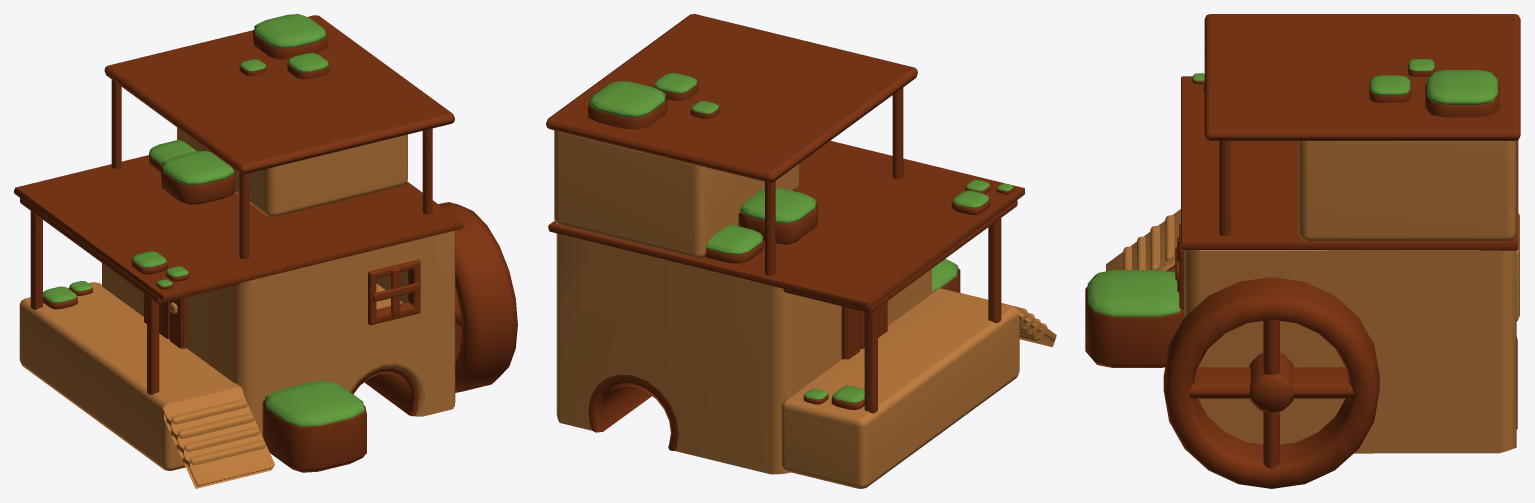
Rendered from WaterMillCombined.fbx.
3 views of the same model, side by side, from view 1: azimuth 30°, elevation 25°; view 2: azimuth 150°, elevation 25°; view 3: azimuth 270°, elevation 25° (orthographic). The views are drawn at different scales.
Parts seen in each view (by area): view 1: polySurface22, polySurface13; view 2: polySurface22; view 3: polySurface22, polySurface13.
Boxes of the visible parts, x1=… form: polySurface22: x1=14, y1=14, x2=463, y2=488; polySurface13: x1=438, y1=202, x2=517, y2=392; polySurface22: x1=546, y1=14, x2=1056, y2=488; polySurface22: x1=1085, y1=14, x2=1520, y2=453; polySurface13: x1=1163, y1=277, x2=1379, y2=488.
Size of what is drawn, in the model's own units: 37.22 by 31.91 by 35.06.
